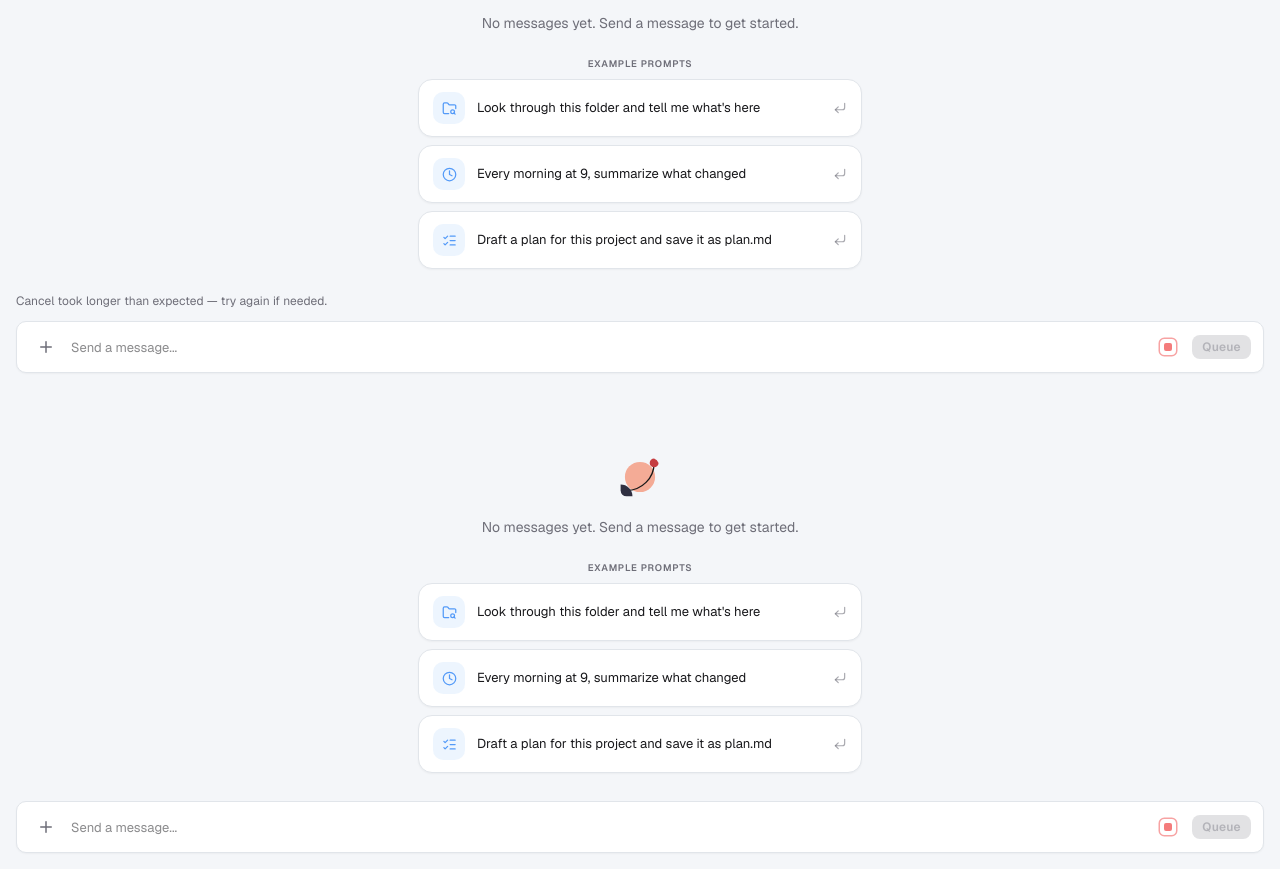
Test: ChatView Stop button: isCancelling optimistic state › clears isCancelling immediately on POST failure and surfaces an error notice
(page scrolled)
Click the 2nd button named "Stop": [1168, 827] box [1152, 811, 1184, 843]
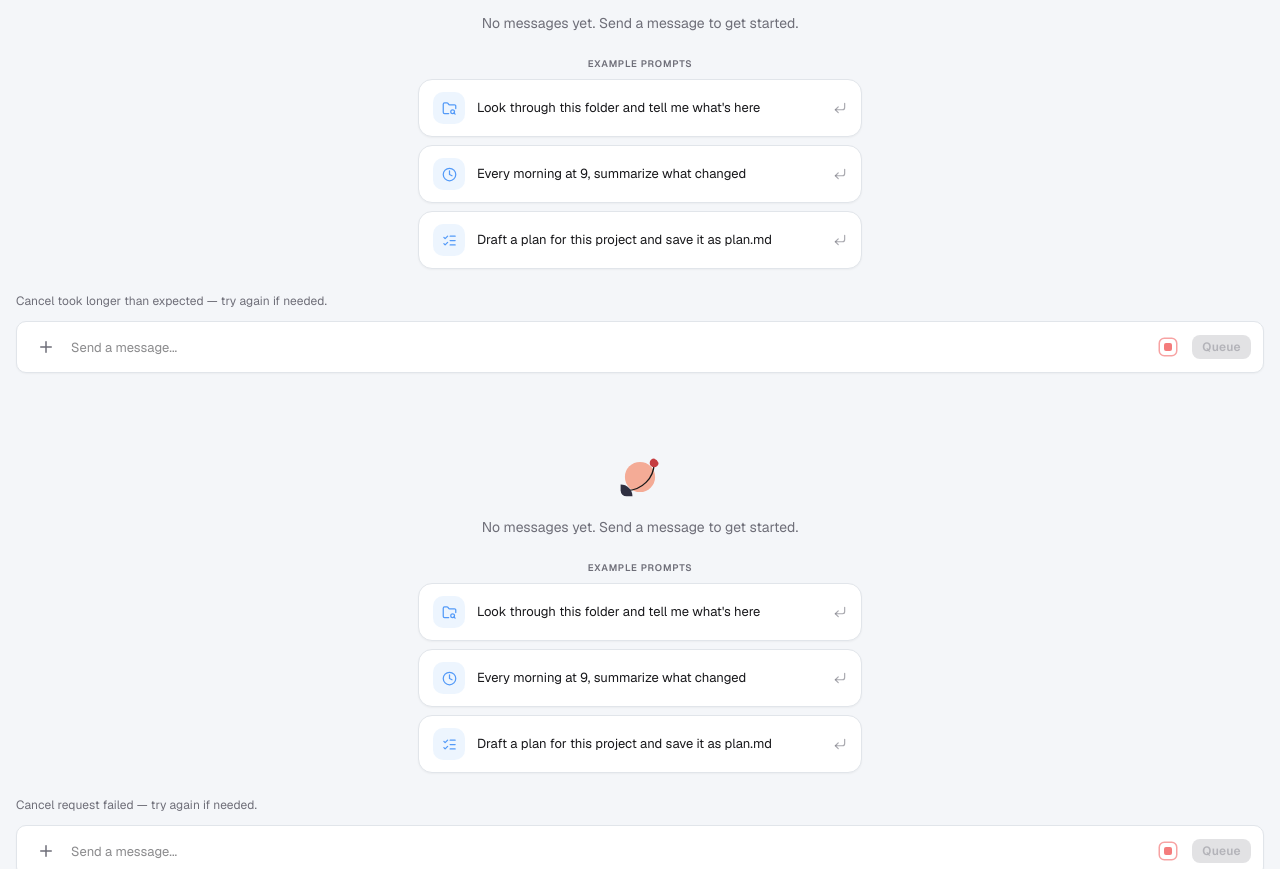
Expected: the 2nd button named "Stop" is shown, [1152, 835, 1184, 867]
Expected: the message "Cancel request failed — try again if needed." is shown, [16, 797, 257, 813]
